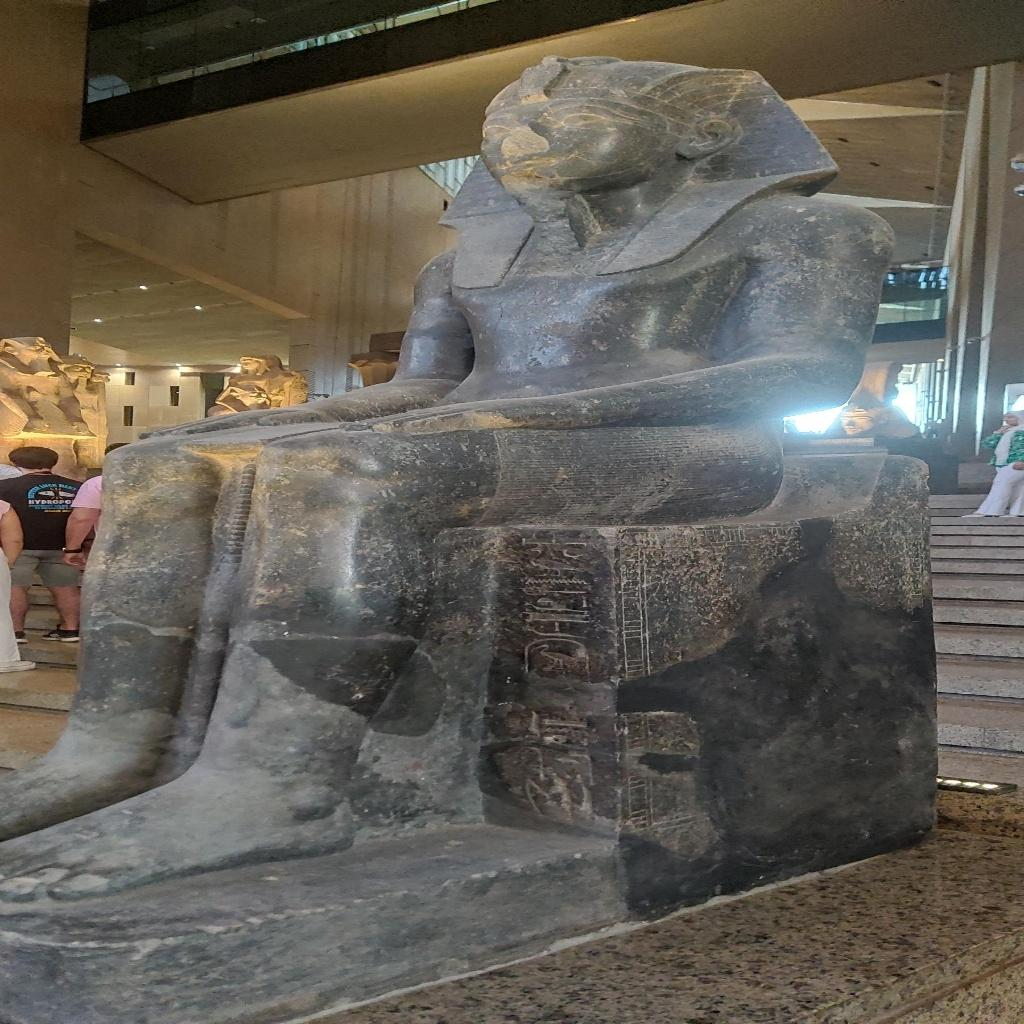Seated Statue of Thutmose III: (0, 51, 895, 1016)
